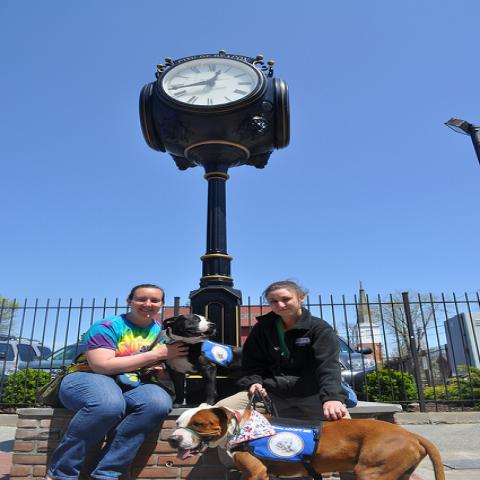car: (0, 337, 56, 383), (337, 335, 378, 393), (20, 343, 85, 370)
